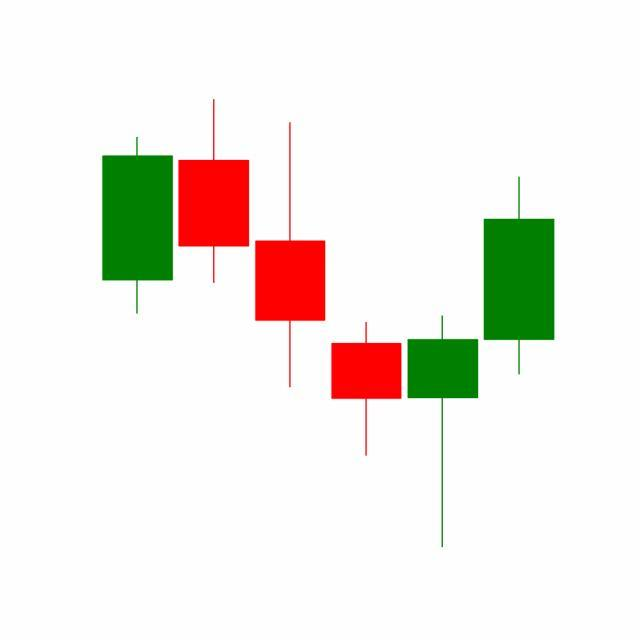Tasuki Gap: (252, 118, 482, 548)
